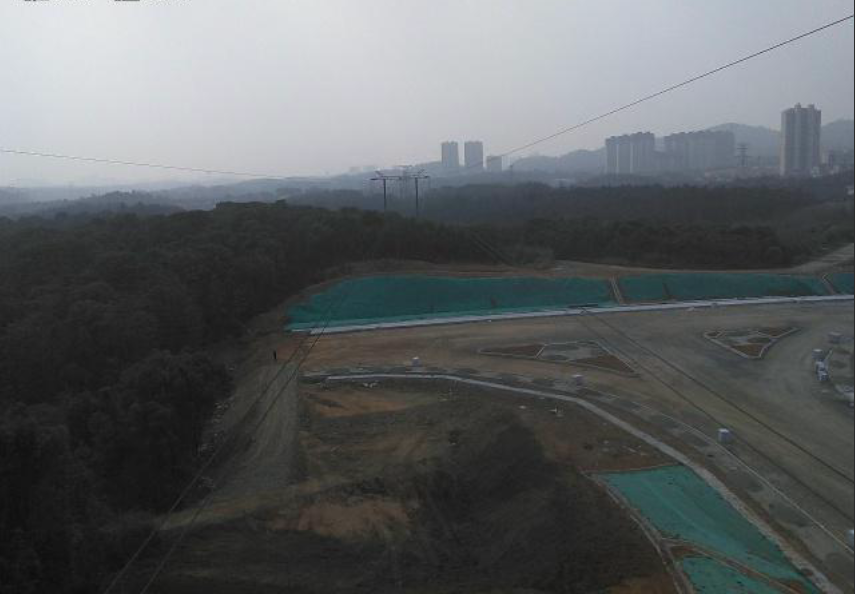绿膜: (589, 464, 824, 593), (281, 272, 620, 332), (618, 271, 832, 305), (831, 271, 855, 295)
